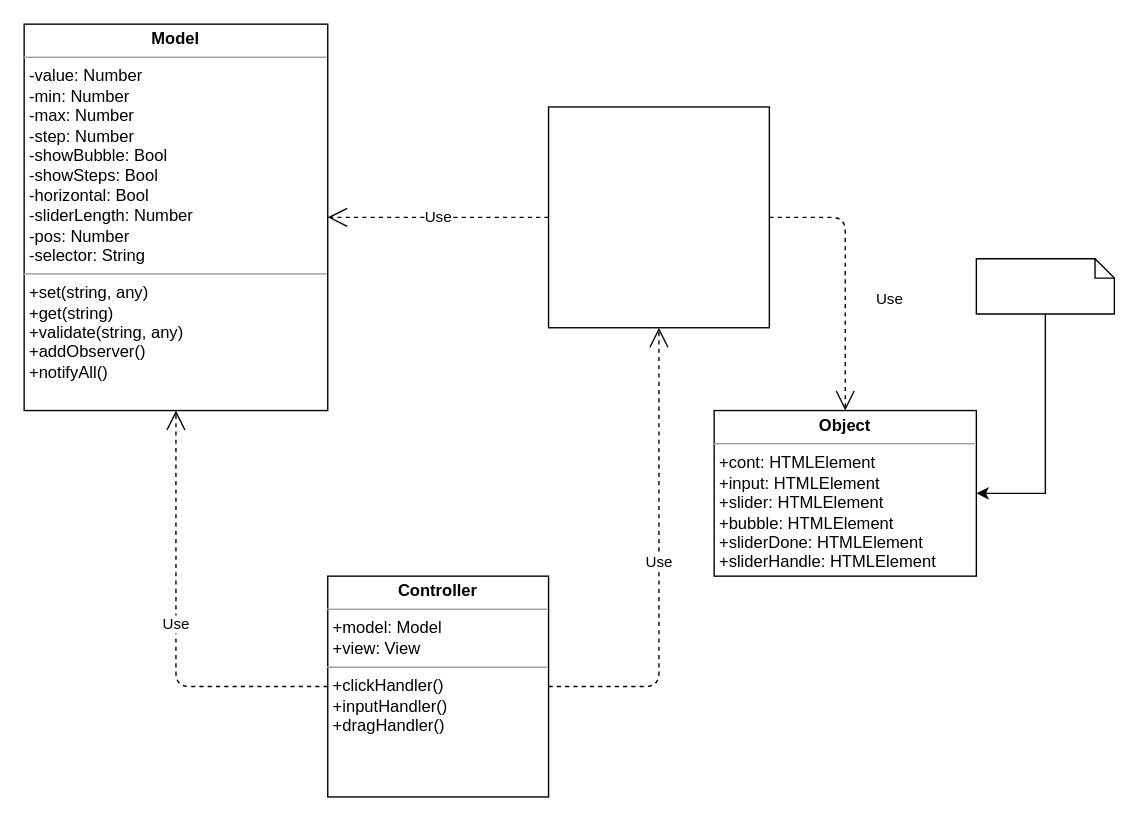
This 1139x821 diagram has some shape labels left out. Here are the shapes that lost their labels. From the top down, the box of each, then its label:
(547, 106, 769, 328): View +model: Model +root: HTMLElement +dom: Object +render(Controller) +update()
(975, 257, 1114, 314): dom Object
